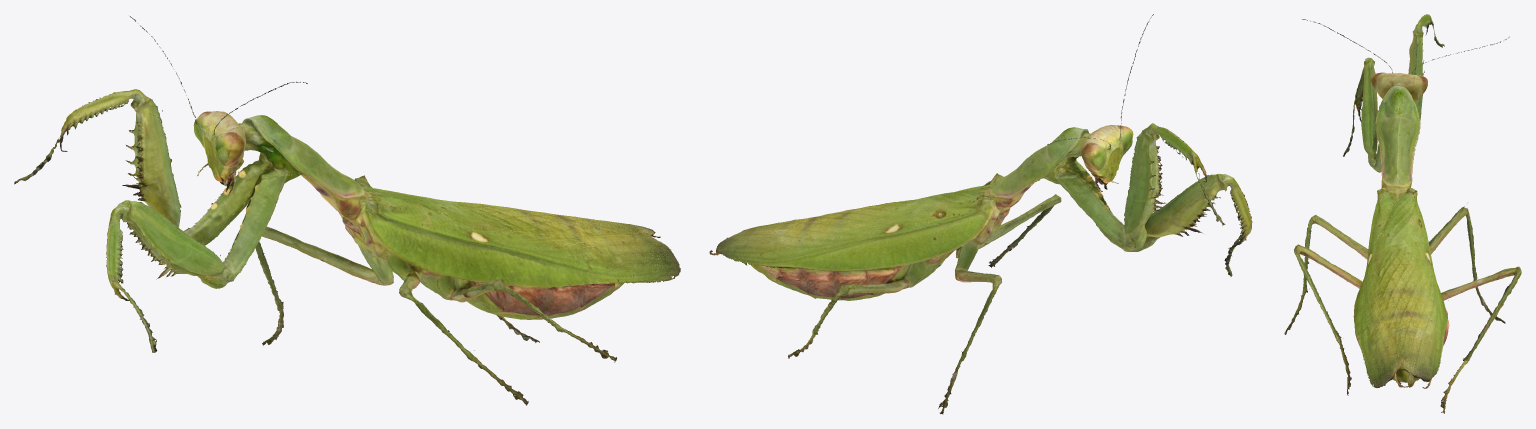
Rendered from hierodula_patellifera.glb.
The picture shows the model from 3 angles, left to right: view 1: azimuth 30°, elevation 25°; view 2: azimuth 150°, elevation 25°; view 3: azimuth 270°, elevation 25°; orthographic projection. The views are drawn at different scales.
Visible parts, largest first — view 1: Q11510-1all-6-body_5; view 2: Q11510-1all-6-body_5; view 3: Q11510-1all-6-body_5.
Part boxes in pixels (<box>): Q11510-1all-6-body_5: <box>14,16,680,405</box>; Q11510-1all-6-body_5: <box>709,14,1252,414</box>; Q11510-1all-6-body_5: <box>1284,14,1521,413</box>.
Size of the model in its own units: 7.61 by 4.82 by 3.68.
2 materials, 2 textured.
